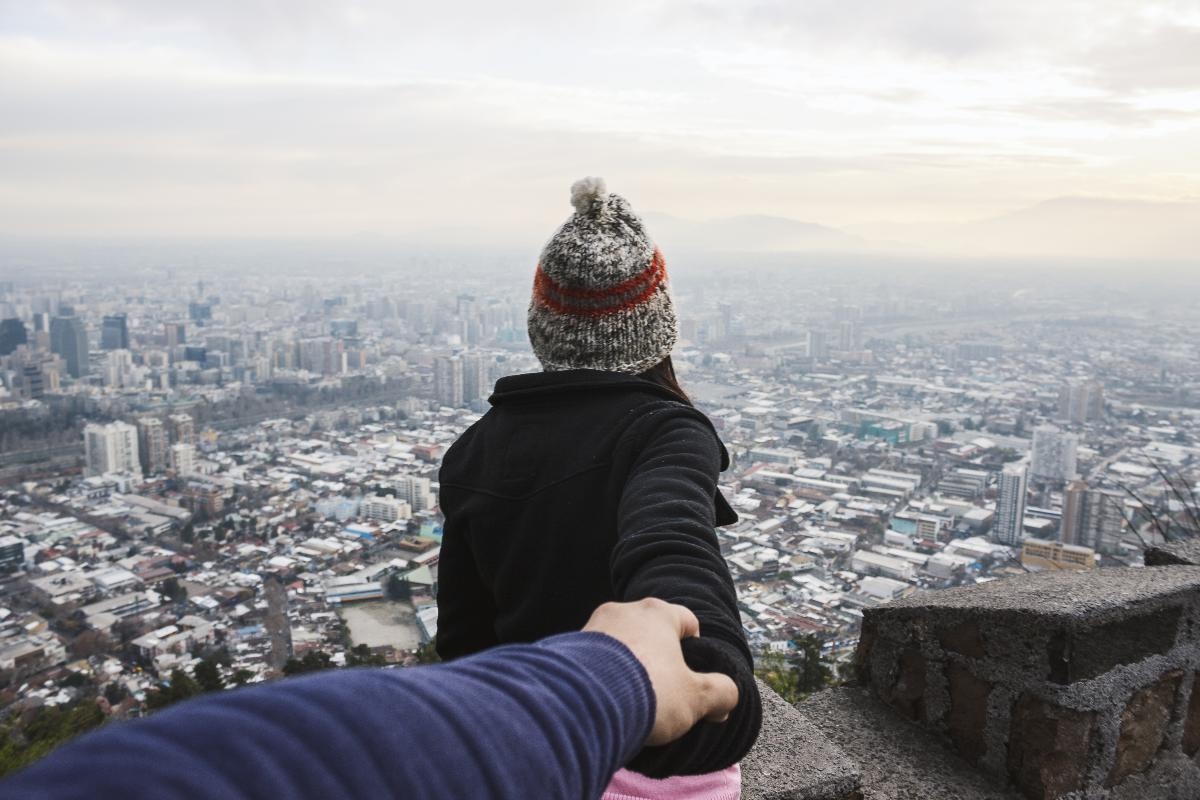Person: (420, 165, 759, 798)
